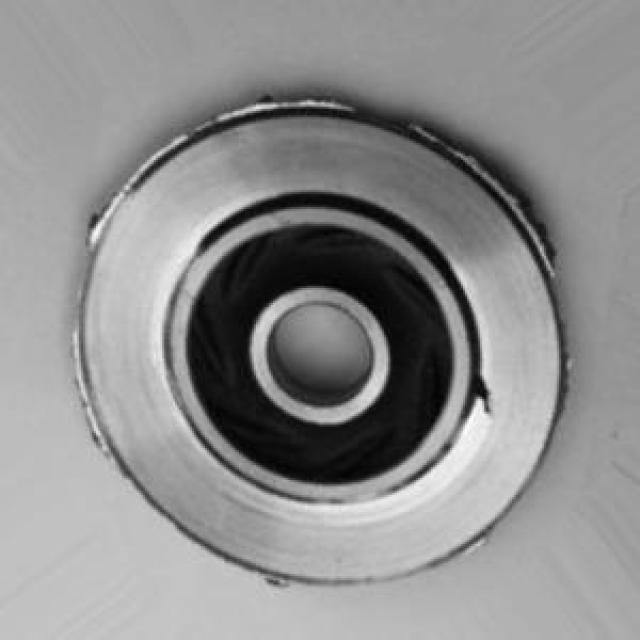Defect: (420, 117, 526, 196)
